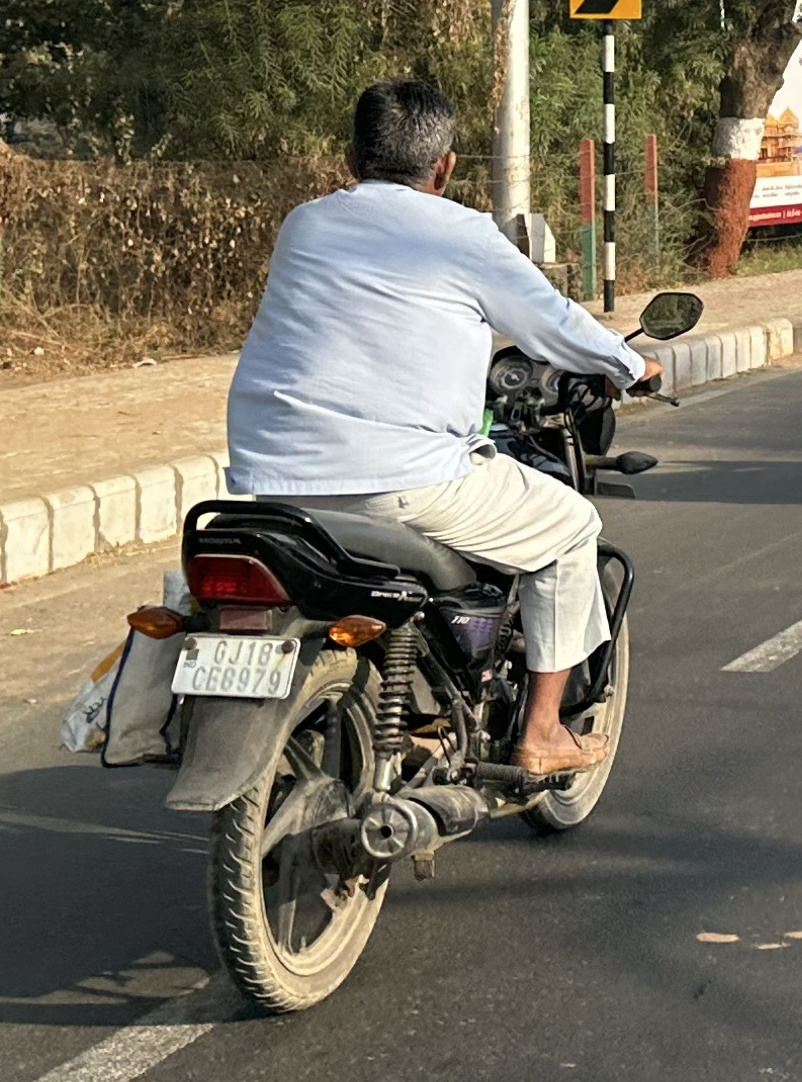BikeWithRider: (55, 54, 714, 1030)
NoHelmet: (332, 61, 487, 211)
